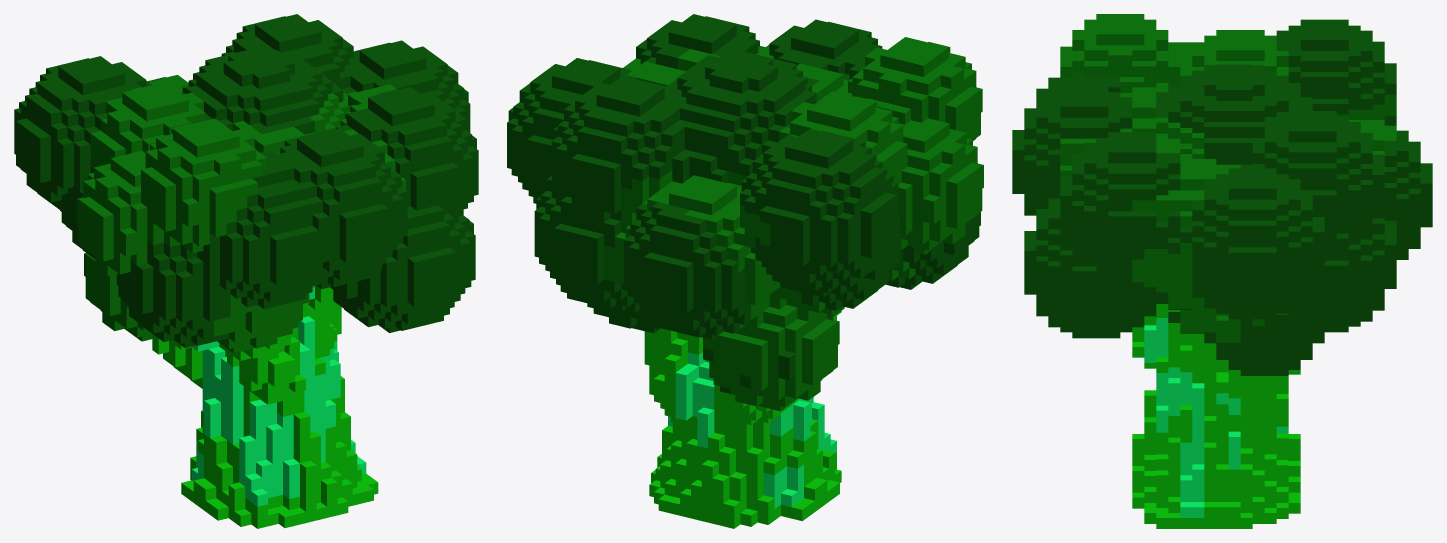
The model's file is Broccoli.fbx.
3 views of the same model, side by side, from view 1: azimuth 30°, elevation 25°; view 2: azimuth 150°, elevation 25°; view 3: azimuth 270°, elevation 25° (orthographic). The views are drawn at different scales.
Parts seen in each view (by area): view 1: Polygon; view 2: Polygon; view 3: Polygon.
Part boxes in pixels (left/top/right/bottom): Polygon: left=14, top=14, right=478, bottom=528; Polygon: left=507, top=14, right=983, bottom=528; Polygon: left=1012, top=14, right=1432, bottom=528.
Size of the model in its own units: 3.8 by 3.8 by 3.5.
1 material, 1 textured.
